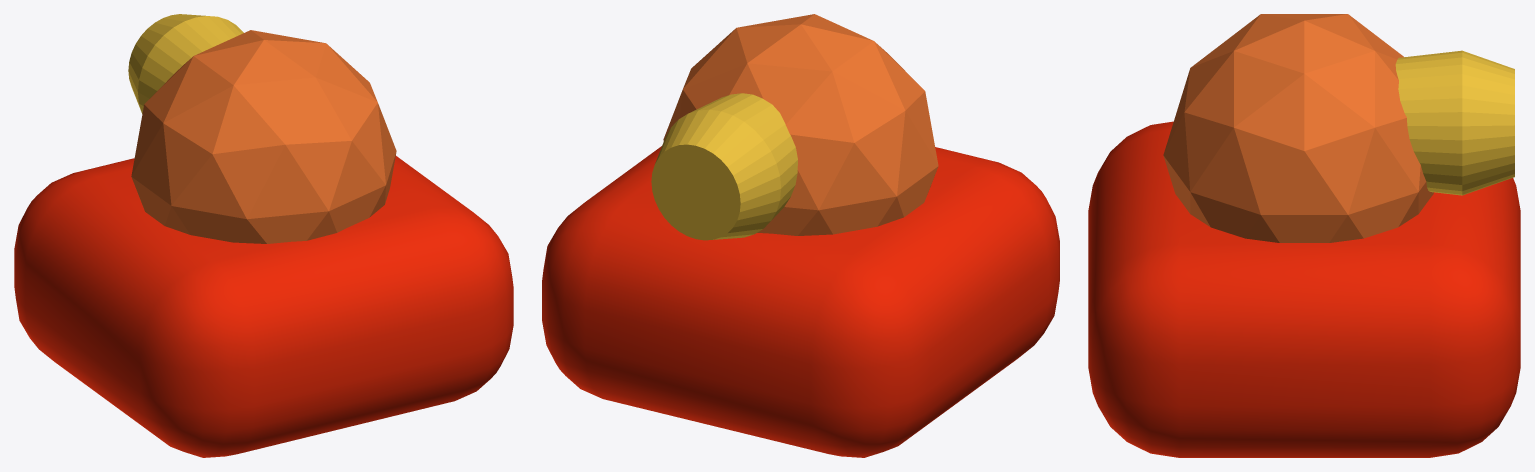
The model's file is tank_player_1.fbx.
3 renders of one model, left to right at view 1: azimuth 30°, elevation 25°; view 2: azimuth 150°, elevation 25°; view 3: azimuth 270°, elevation 25°, orthographic. The views are drawn at different scales.
Parts seen in each view (by area): view 1: 玩家坦克, 棱角球, 柱体; view 2: 玩家坦克, 棱角球, 柱体; view 3: 玩家坦克, 棱角球, 柱体.
Boxes of the visible parts, x1=… form: 玩家坦克: x1=14, y1=156, x2=513, y2=457; 棱角球: x1=131, y1=30, x2=396, y2=243; 柱体: x1=128, y1=14, x2=243, y2=113; 玩家坦克: x1=542, y1=146, x2=1059, y2=457; 棱角球: x1=663, y1=14, x2=938, y2=235; 柱体: x1=651, y1=93, x2=797, y2=240; 玩家坦克: x1=1088, y1=121, x2=1520, y2=457; 棱角球: x1=1163, y1=14, x2=1433, y2=242; 柱体: x1=1395, y1=50, x2=1514, y2=195.
Bounding box in the file's own units: 1 × 0.9015 × 0.95.
